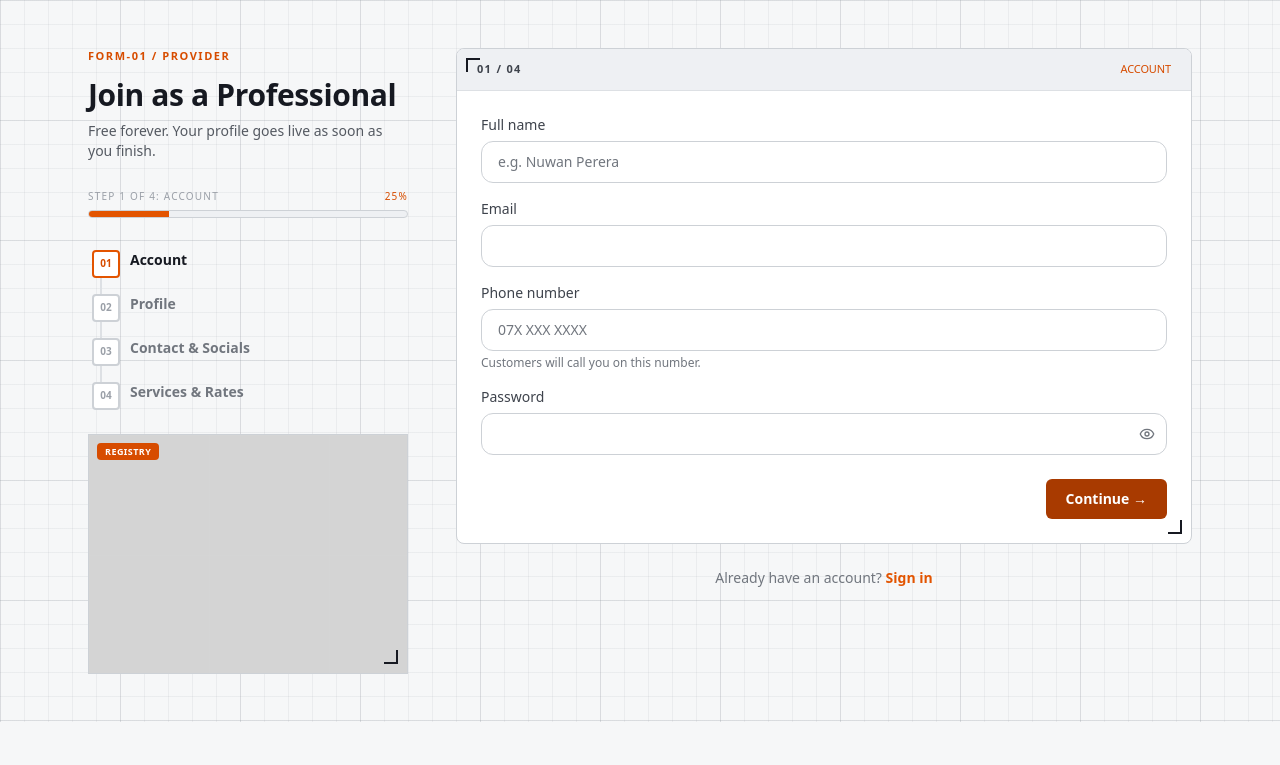
it: ProviderRegisterForm (authed mode, #552) › keeps the phone on the account step only in guest mode
The image size is (1280, 765).
Expected: the field labelled "Phone number" is shown, [481,308,1167,350]
Type "Nuwan Perera" into the field labelled "Full name" at (824, 162), box [481,140,1167,182]
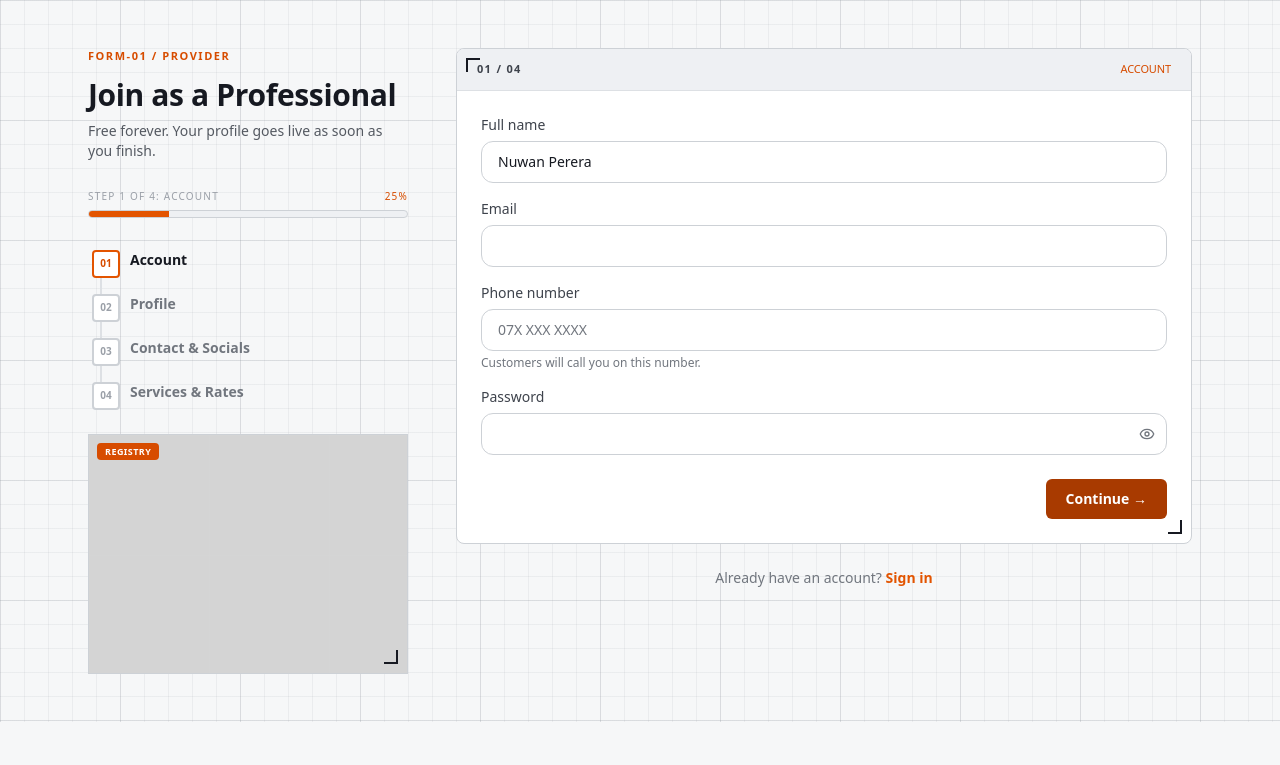
Type "nuwan@example.com" into the field labelled "Email" at (824, 246), box [481,224,1167,266]
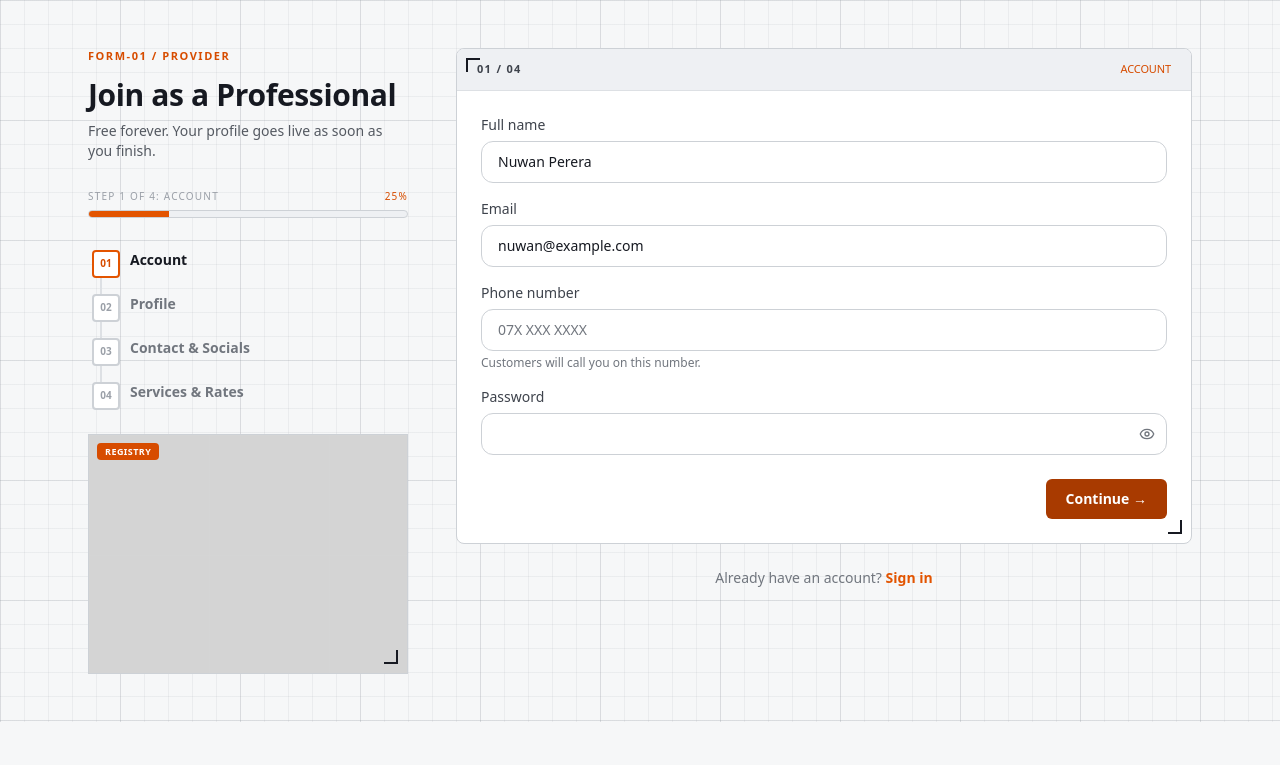
Type "0771234567" into the field labelled "Phone number" at (824, 330), box [481,308,1167,350]
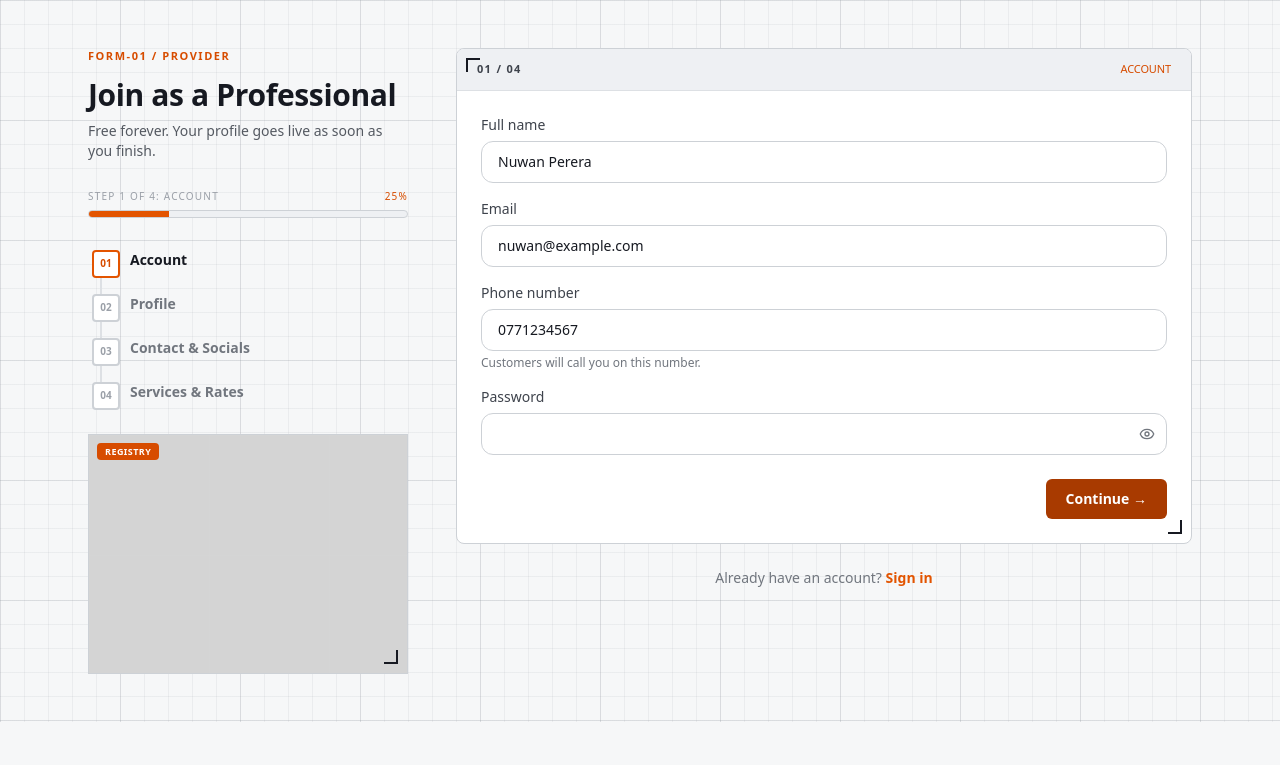
Type "correct-horse-battery" into the password field labelled "Password" at (824, 434), box [481,412,1167,454]
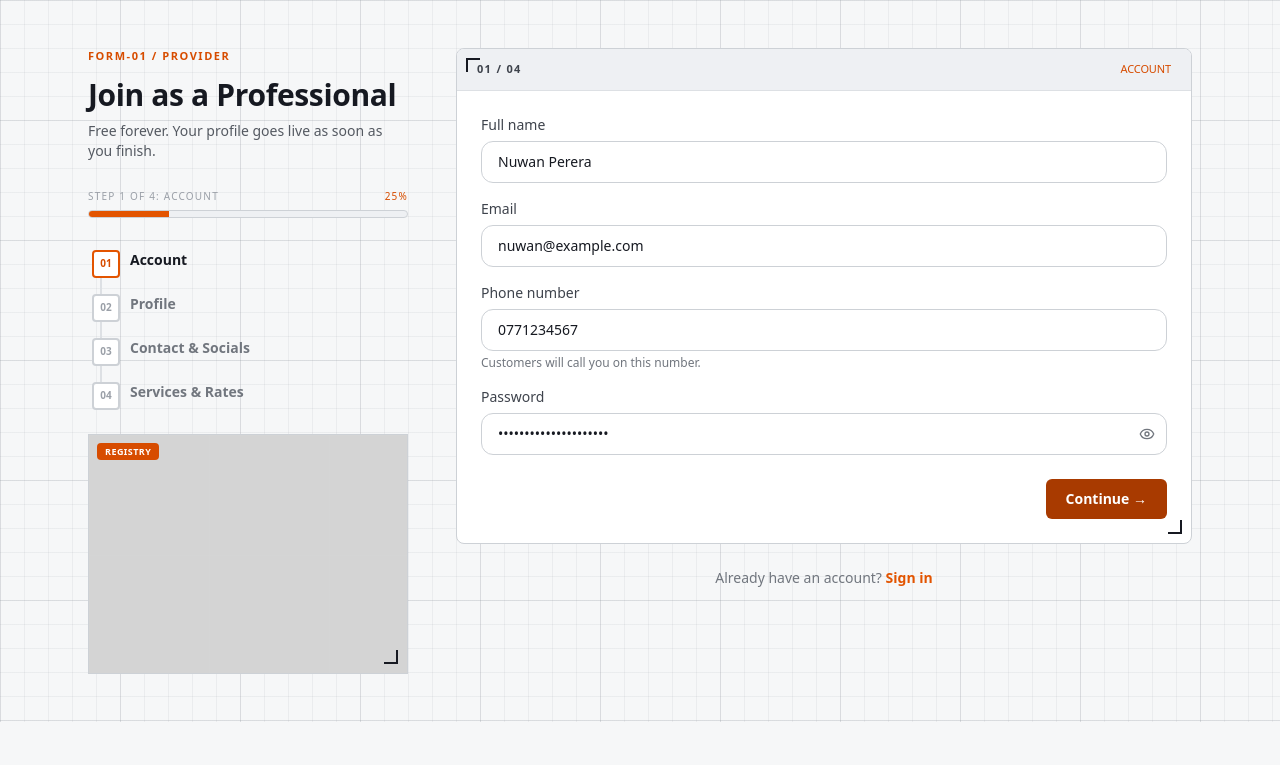
Click the button "Continue →" at (1106, 498), box [1046,478,1167,518]
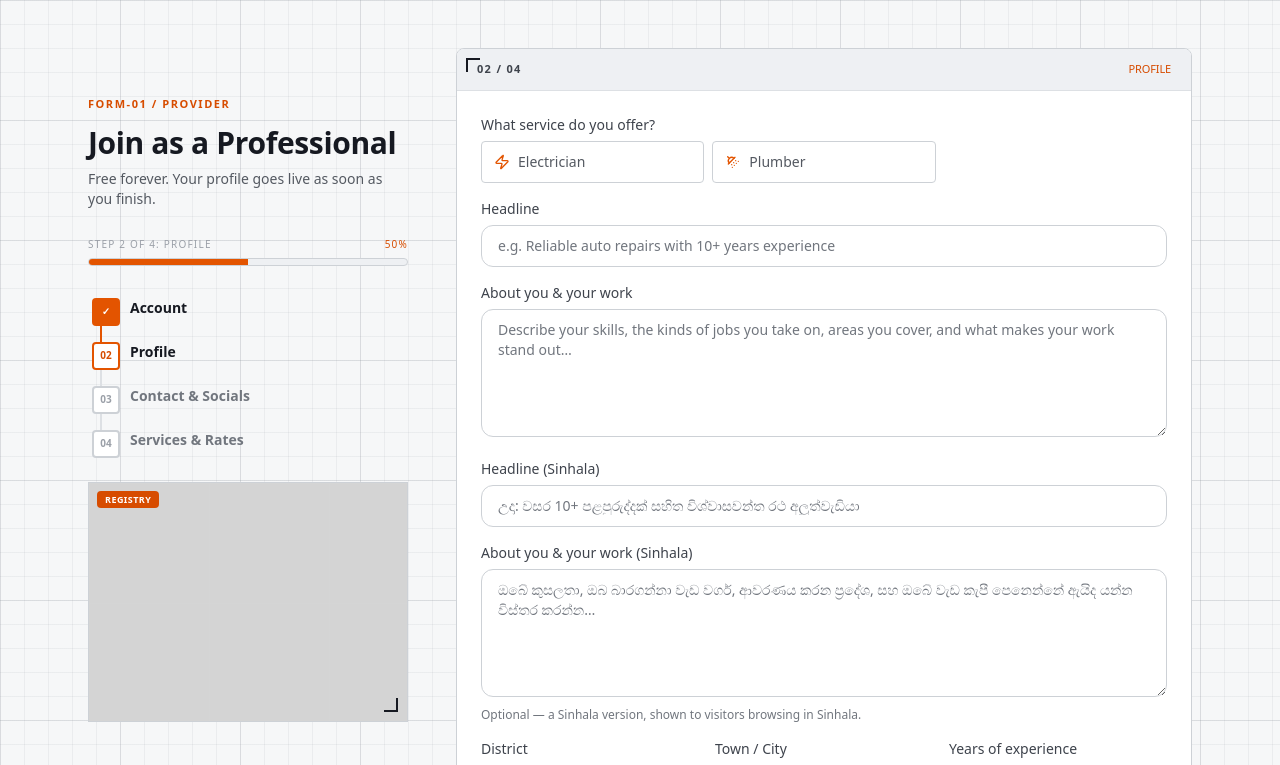
Result: the label labelled "Phone number" is gone
